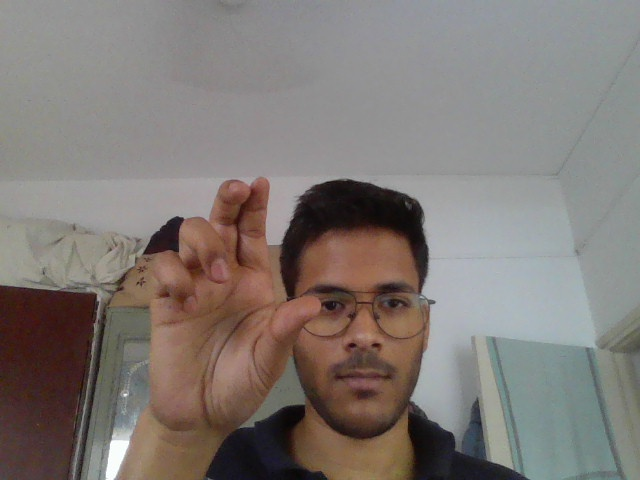no: (126, 180, 353, 426)
